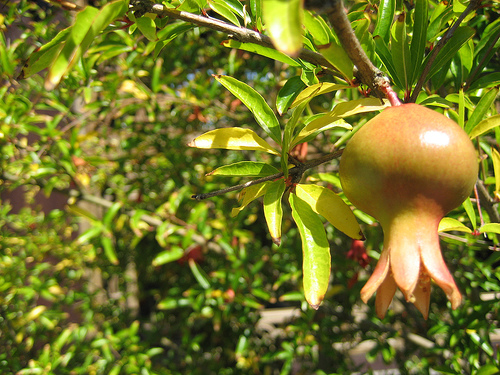pomogranate: (332, 84, 480, 320)
